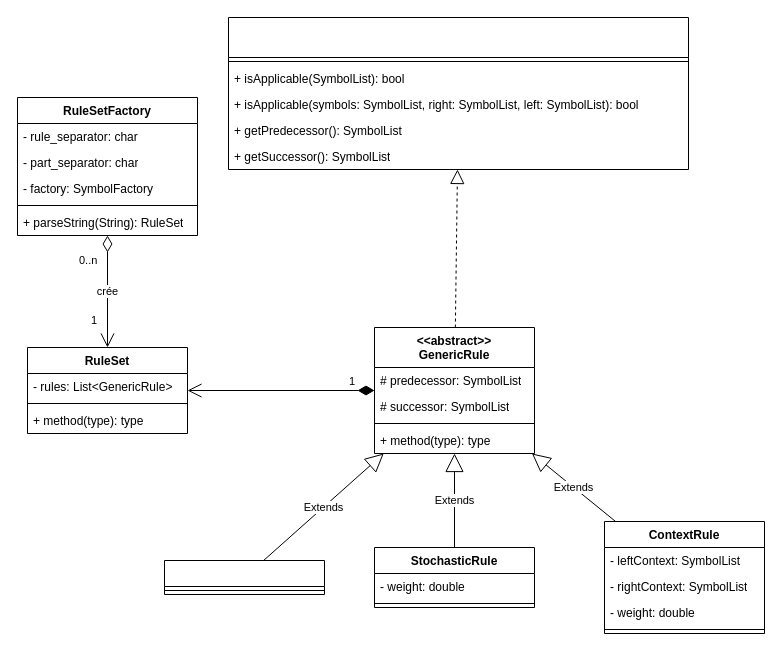
The diagram is 782 pixels wide and 651 high, and some of its shapes have lost their labels. Here are the shapes that lost their labels. From the top down, the box of each, then its label:
(228, 16, 688, 170): <<interface>> Applicable
(164, 560, 324, 594): SimpleRule
